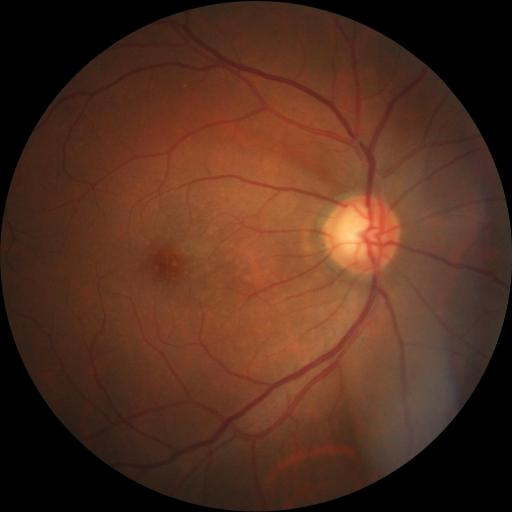Optic Cup: (342, 213, 390, 255)
Optic Disc: (322, 193, 401, 274)
